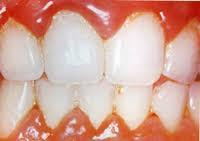cavity: (98, 9, 173, 88), (0, 13, 44, 82), (158, 17, 200, 84), (112, 82, 151, 136)
normal: (40, 5, 106, 89), (142, 79, 191, 139), (32, 76, 79, 133), (0, 76, 36, 140), (76, 77, 115, 131)
